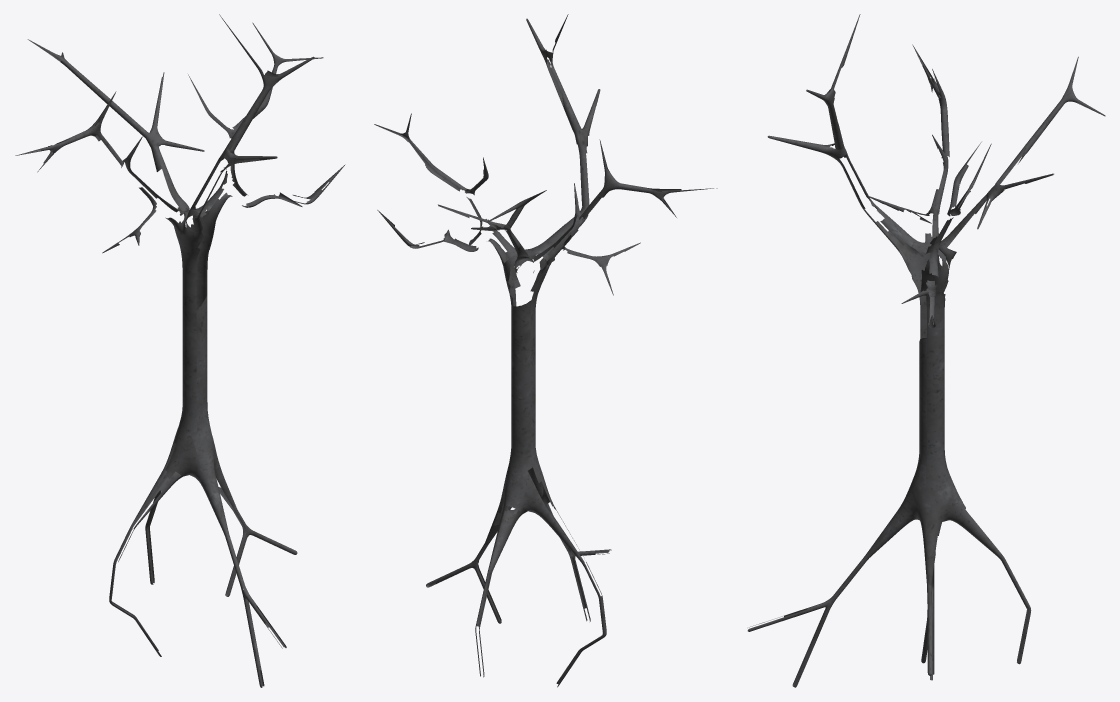
The model's file is tree_02.fbx.
3 views of the same model, side by side, from view 1: azimuth 30°, elevation 25°; view 2: azimuth 150°, elevation 25°; view 3: azimuth 270°, elevation 25° (orthographic). The views are drawn at different scales.
Visible parts, largest first — view 1: tree_02; view 2: tree_02; view 3: tree_02.
Part boxes in pixels (left/top/right/bottom): tree_02: left=15, top=14, right=345, bottom=687; tree_02: left=374, top=14, right=717, bottom=687; tree_02: left=747, top=14, right=1105, bottom=687.
Bounding box in the file's own units: 574 × 1067 × 512.
